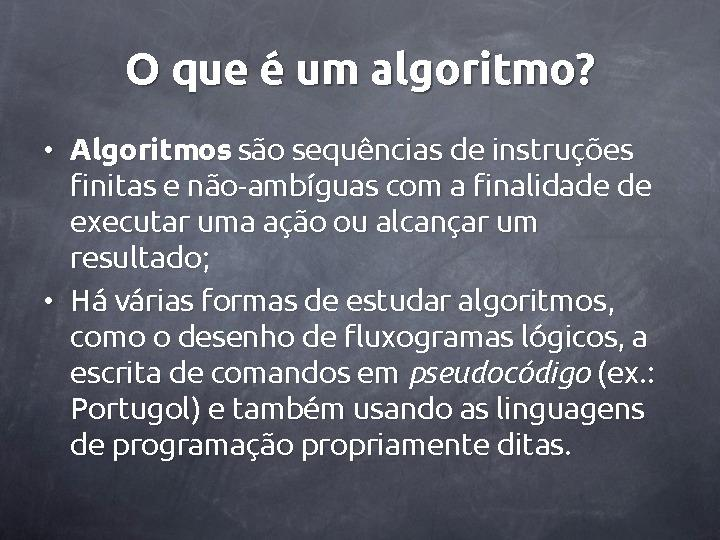paragraph: (29, 124, 677, 487)
title: (117, 31, 608, 106)
